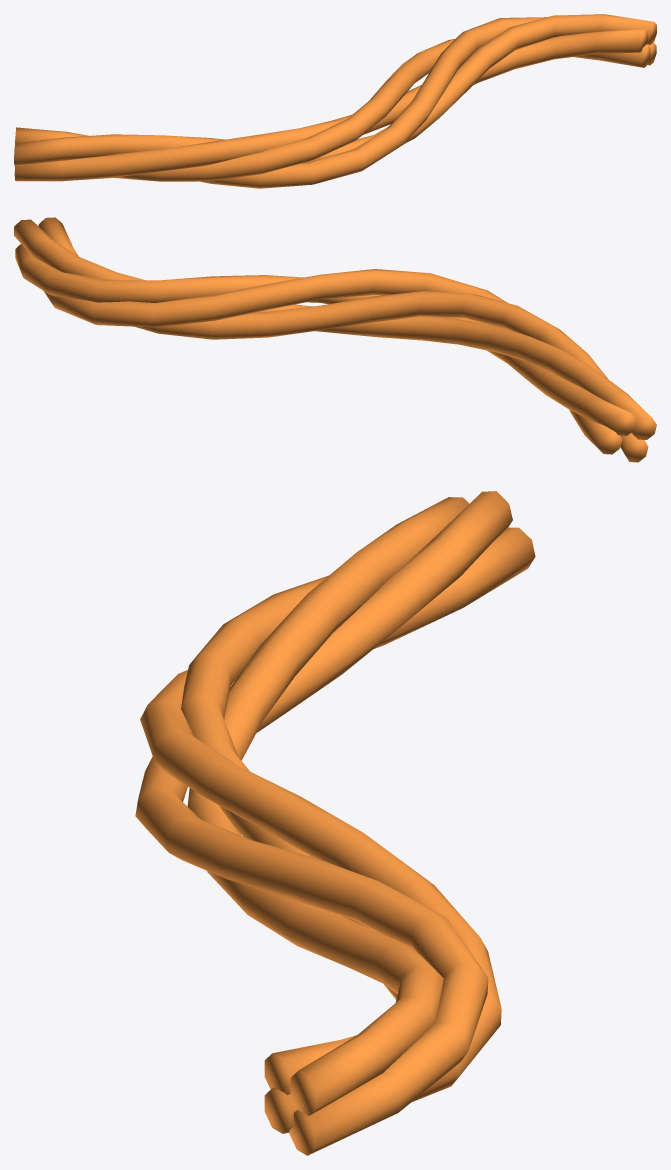
Rendered from rope.fbx.
3 views of the same model, one above another, from view 1: azimuth 30°, elevation 25°; view 2: azimuth 150°, elevation 25°; view 3: azimuth 270°, elevation 25° (orthographic). The views are drawn at different scales.
Parts seen in each view (by area): view 1: Circle; view 2: Circle; view 3: Circle.
Boxes of the visible parts, left/top/right/bottom form: Circle: left=14, top=14, right=656, bottom=188; Circle: left=14, top=217, right=656, bottom=462; Circle: left=135, top=491, right=535, bottom=1155.
Bounding box in the file's own units: 1.56 × 0.1419 × 0.4428.
